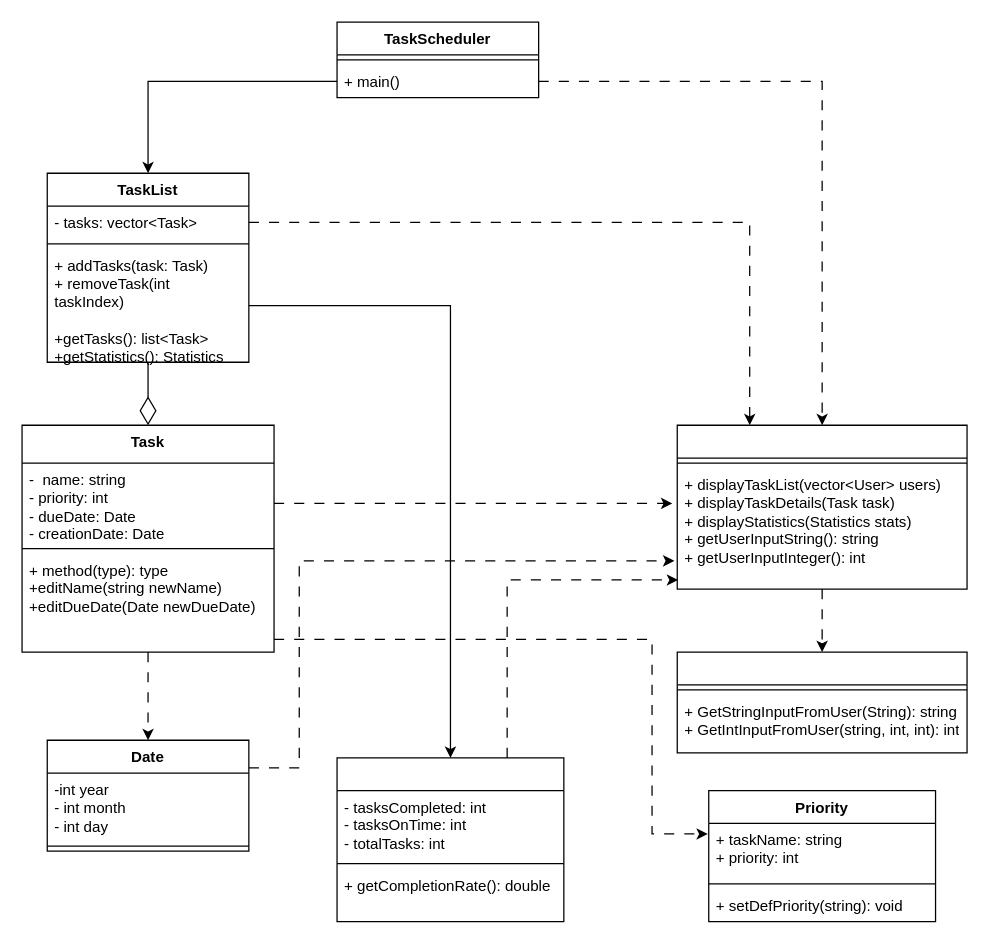
Some shapes in this 989 by 948 pixel diagram are drawn without their labels. Each missing label, with the box of its shape:
InputOutput: (676, 424, 967, 589)
InputValidation: (676, 651, 967, 753)
Statistics: (336, 757, 564, 922)
